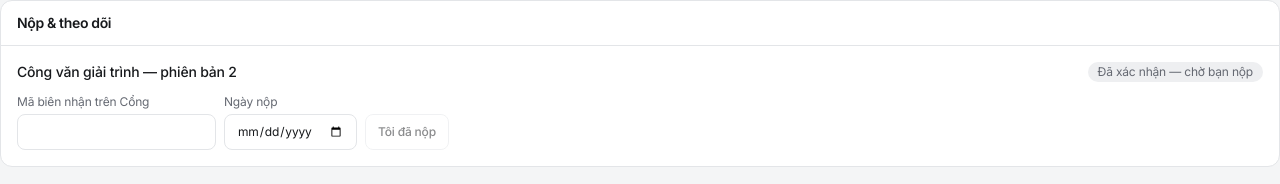
Test case: Nộp & theo dõi › đã xác nhận: phải có biên nhận và ngày mới ghi được "đã nộp"
Later steps or results of the test are not shown.
Expected: the button "Tôi đã nộp" is disabled, x1=365 y1=114 x2=449 y2=150
In the field labelled "Mã biên nhận": (116, 132) x1=17 y1=114 x2=216 y2=150, type "11020260000123"
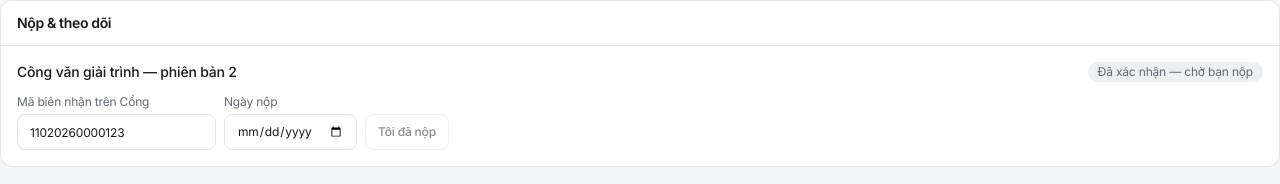
In the date field labelled "Ngày nộp": (290, 132) x1=224 y1=114 x2=357 y2=150, type "2026-10-15"
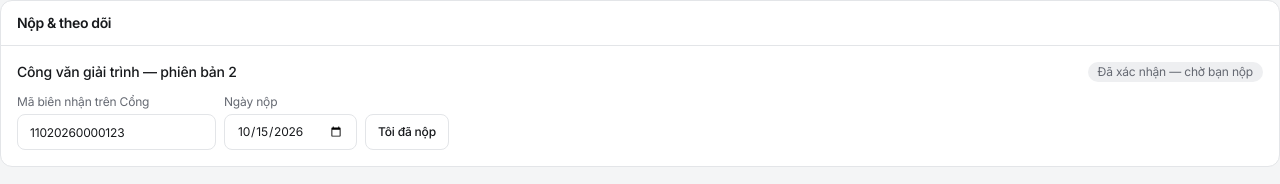
Expected: the button "Tôi đã nộp" is enabled, x1=365 y1=114 x2=449 y2=150
